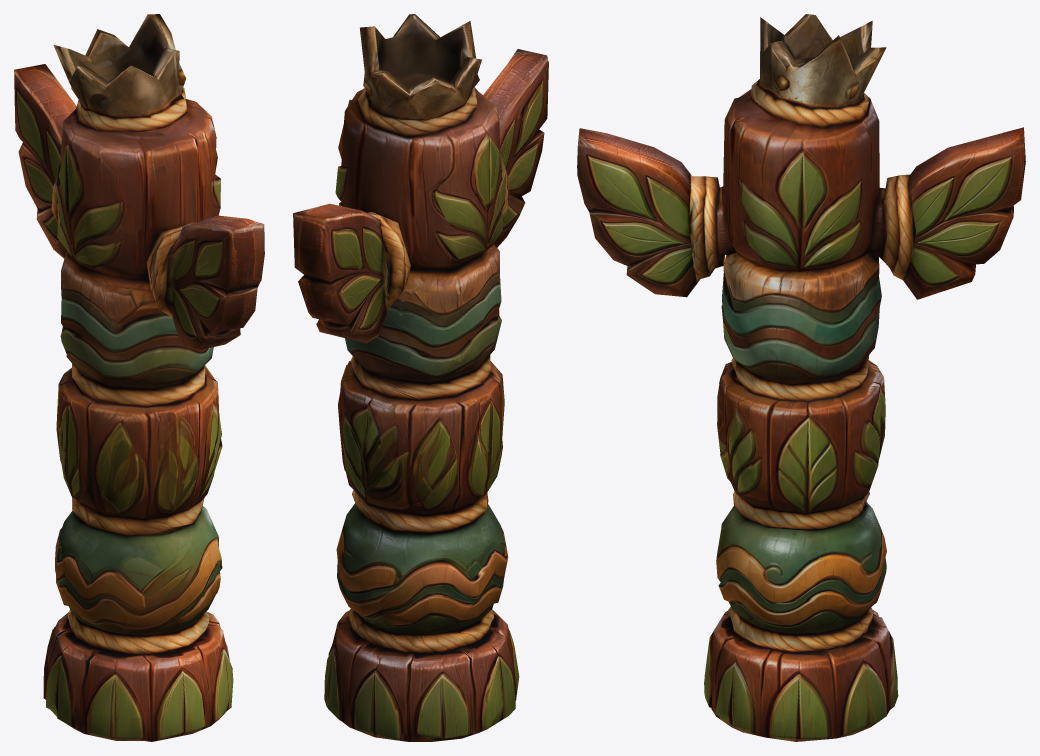
Rendered from W_Totem_raw.glb.
The picture shows the model from 3 angles, left to right: view 1: azimuth 30°, elevation 25°; view 2: azimuth 150°, elevation 25°; view 3: azimuth 270°, elevation 25°; orthographic projection. The views are drawn at different scales.
Parts seen in each view (by area): view 1: tripo_node_c8987ebb-c024-4419-a40f-6bc16b938b6c; view 2: tripo_node_c8987ebb-c024-4419-a40f-6bc16b938b6c; view 3: tripo_node_c8987ebb-c024-4419-a40f-6bc16b938b6c.
Part boxes in pixels (x1=…): tripo_node_c8987ebb-c024-4419-a40f-6bc16b938b6c: x1=14, y1=14, x2=264, y2=741; tripo_node_c8987ebb-c024-4419-a40f-6bc16b938b6c: x1=293, y1=14, x2=548, y2=741; tripo_node_c8987ebb-c024-4419-a40f-6bc16b938b6c: x1=577, y1=14, x2=1025, y2=741.
Size of the model in its own units: 0.2587 by 1 by 0.5952.
1 material, 1 textured.
